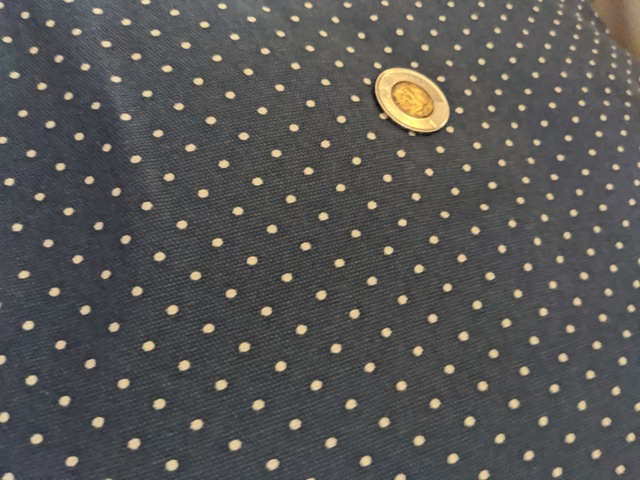twonie: (363, 60, 454, 153)
